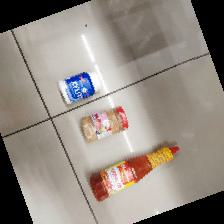Hao_hao: (79, 105, 131, 144)
Tuong: (88, 141, 181, 205)
Xylitol_blue: (56, 65, 106, 106)
